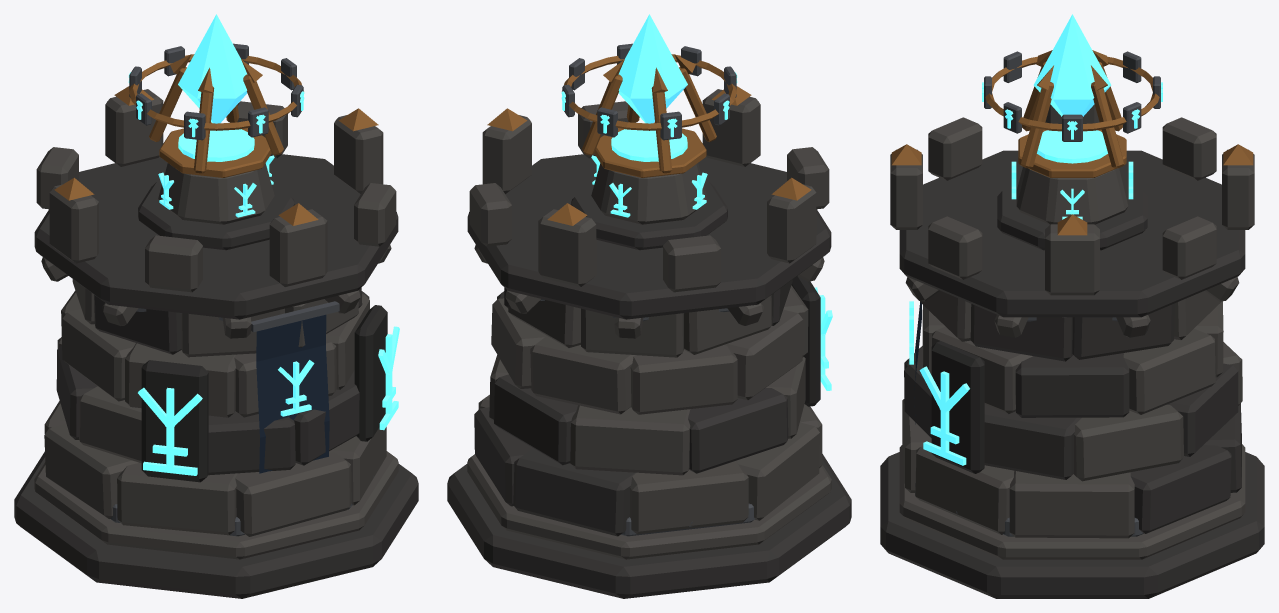
Rendered from rune_tower_lvl2.glb.
3 views of the same model, side by side, from view 1: azimuth 30°, elevation 25°; view 2: azimuth 150°, elevation 25°; view 3: azimuth 270°, elevation 25° (orthographic).
Visible parts, largest first — view 1: Platform, Plinth, Plinth_Step, Block_0_6, Block_0_5, Banner, RuneStone_1, Block_1_5, Altar, Block_0_4, Altar_Base, Crystal_Main (+31 smaller); view 2: Platform, Plinth, Plinth_Step, Block_1_2, Block_0_2, Block_0_3, Block_2_3, Block_1_3, Block_2_2, Altar, Block_1_1, Block_0_4 (+27 smaller); view 3: Platform, Plinth, Plinth_Step, Block_0_0, Block_2_0, Block_1_0, Block_0_1, Block_1_7, Block_2_1, Block_0_7, RuneStone_0, Altar (+31 smaller).
Boxes of the visible parts, <box> form: Platform: <box>34,154,398,319</box>; Plinth: <box>14,451,418,598</box>; Plinth_Step: <box>34,451,398,559</box>; Block_0_6: <box>235,452,351,536</box>; Block_0_5: <box>117,463,237,535</box>; Banner: <box>256,314,329,473</box>; RuneStone_1: <box>141,360,208,482</box>; Block_1_5: <box>208,411,295,475</box>; Altar: <box>158,163,274,224</box>; Block_0_4: <box>44,423,138,518</box>; Altar_Base: <box>138,181,294,250</box>; Crystal_Main: <box>178,14,247,123</box>; Platform: <box>467,154,831,319</box>; Plinth: <box>447,454,851,598</box>; Plinth_Step: <box>467,454,831,559</box>; Block_1_2: <box>570,405,690,475</box>; Block_0_2: <box>513,448,636,536</box>; Block_0_3: <box>629,461,748,534</box>; Block_2_3: <box>630,345,737,414</box>; Block_1_3: <box>688,388,788,473</box>; Block_2_2: <box>530,336,634,414</box>; Altar: <box>591,163,707,224</box>; Block_1_1: <box>494,374,577,465</box>; Block_0_4: <box>736,422,819,520</box>; Platform: <box>899,150,1245,317</box>; Plinth: <box>880,452,1264,598</box>; Plinth_Step: <box>899,444,1245,559</box>; Block_0_0: <box>1009,470,1134,538</box>; Block_2_0: <box>1015,353,1129,417</box>; Block_1_0: <box>1073,404,1183,481</box>; Block_0_1: <box>1130,445,1231,533</box>; Block_1_7: <box>984,405,1081,479</box>; Block_2_1: <box>1123,329,1215,414</box>; Block_0_7: <box>915,442,1014,534</box>; RuneStone_0: <box>931,341,984,473</box>; Altar: <box>1016,167,1128,224</box>.
Bounding box in the file's own units: 2.37 × 3.44 × 2.37.
